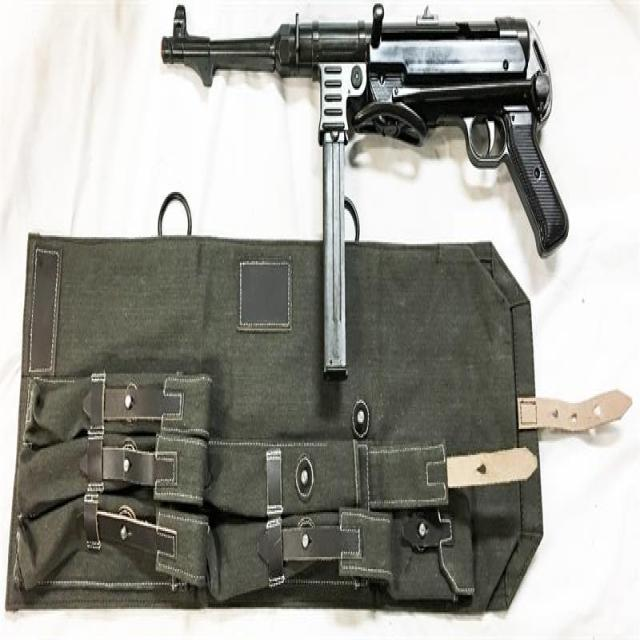SMG: (162, 5, 570, 384)
